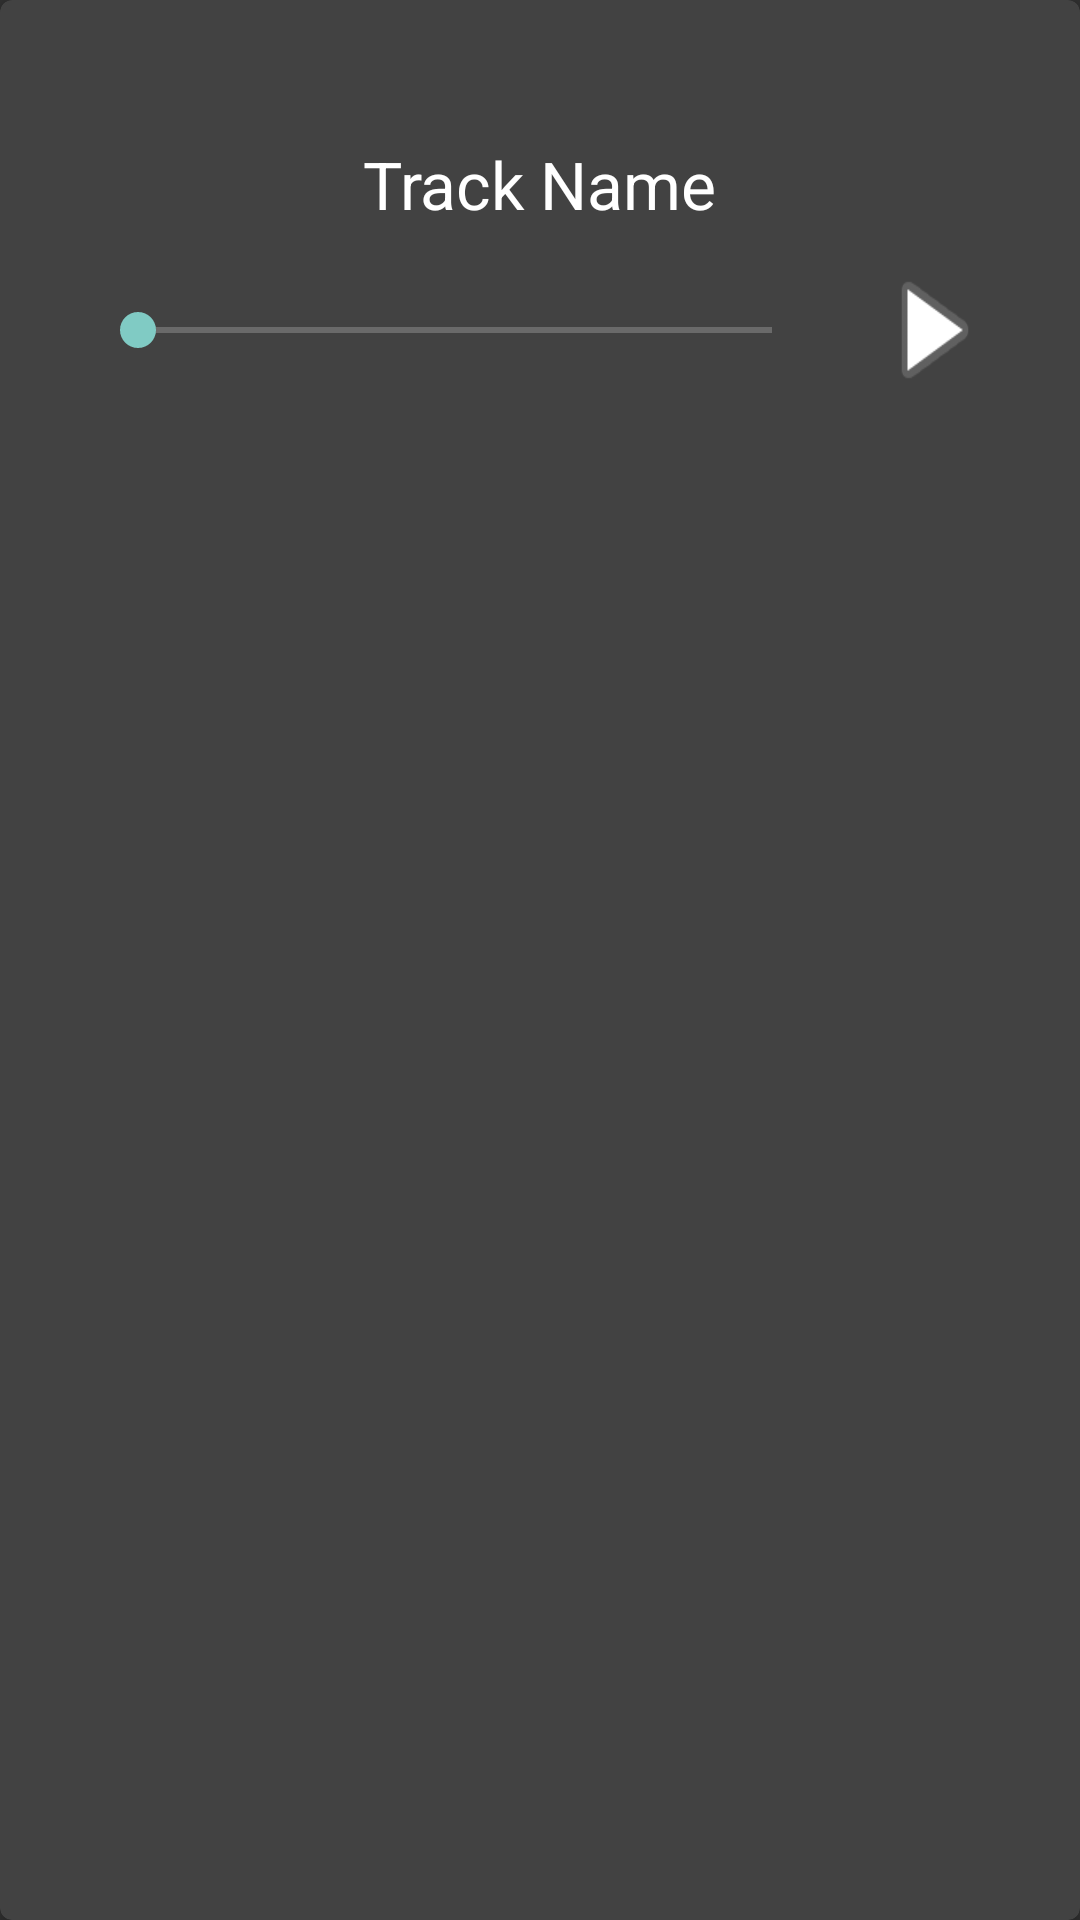

Where icons sit on this 1080px x 1920px app screen, as (x1, y1, x2, y2):
play: (902, 282, 968, 378)
